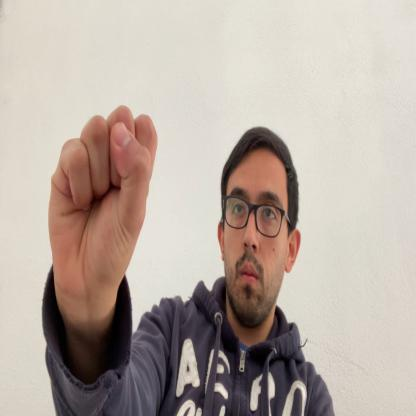S: (47, 106, 158, 298)
